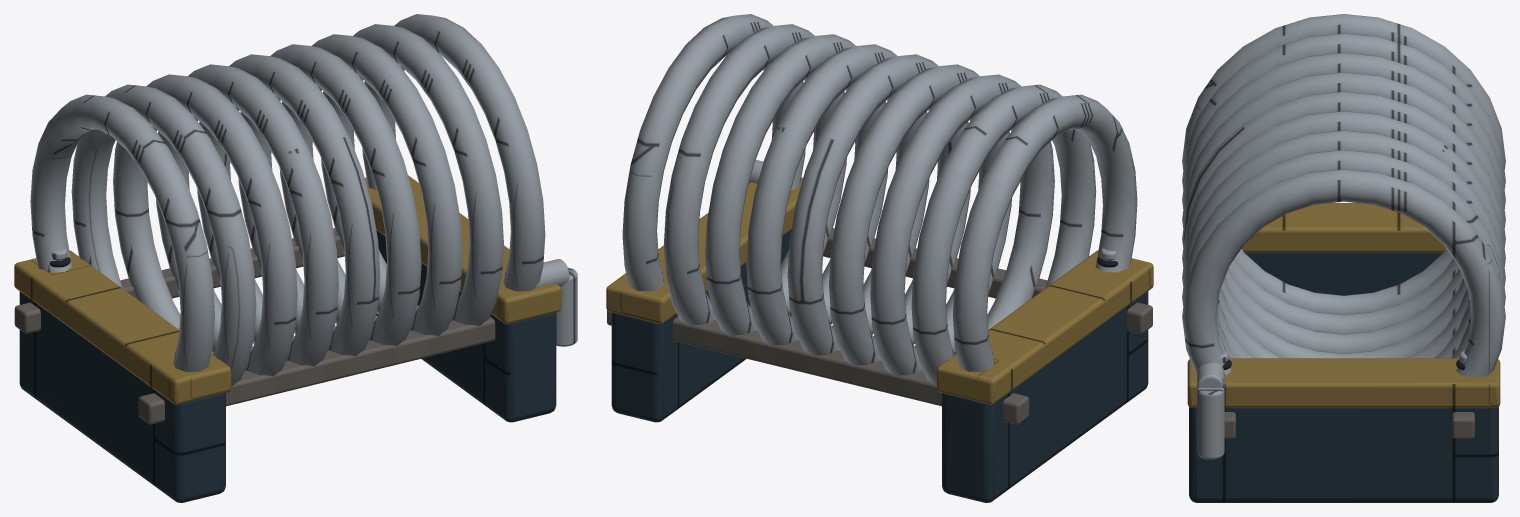
Rendered from ops_induction_coil_lod0.glb.
The picture shows the model from 3 angles, left to right: view 1: azimuth 30°, elevation 25°; view 2: azimuth 150°, elevation 25°; view 3: azimuth 270°, elevation 25°; orthographic projection. The views are drawn at different scales.
Visible parts, largest first — view 1: LOD0_BrushedMetal, LOD0_Armor, LOD0_Hull, LOD0_Ceramic; view 2: LOD0_BrushedMetal, LOD0_Armor, LOD0_Hull, LOD0_Ceramic; view 3: LOD0_BrushedMetal, LOD0_Armor, LOD0_Hull, LOD0_Ceramic.
Boxes of the visible parts, <box> form: LOD0_BrushedMetal: <box>30,14,577,386</box>; LOD0_Armor: <box>19,230,556,502</box>; LOD0_Hull: <box>14,175,561,404</box>; LOD0_Ceramic: <box>14,228,495,424</box>; LOD0_BrushedMetal: <box>622,14,1137,386</box>; LOD0_Armor: <box>611,230,1148,502</box>; LOD0_Hull: <box>606,177,1153,404</box>; LOD0_Ceramic: <box>607,228,1152,424</box>; LOD0_BrushedMetal: <box>1182,14,1505,459</box>; LOD0_Armor: <box>1189,252,1498,502</box>; LOD0_Hull: <box>1187,203,1500,407</box>; LOD0_Ceramic: <box>1224,412,1474,438</box>.
Size of the model in its own units: 2.06 by 1.56 by 1.41.
5 materials, 5 textured.
